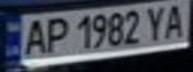1: (72, 11, 93, 52)
2: (121, 7, 145, 47)
8: (106, 9, 127, 50)
9: (90, 10, 112, 51)
A: (18, 16, 51, 58), (160, 1, 190, 42)
P: (39, 15, 72, 57)
Y: (142, 2, 172, 43)
